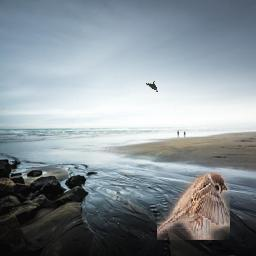Crow: (146, 80, 159, 92)
Sparrow: (158, 172, 231, 240)
